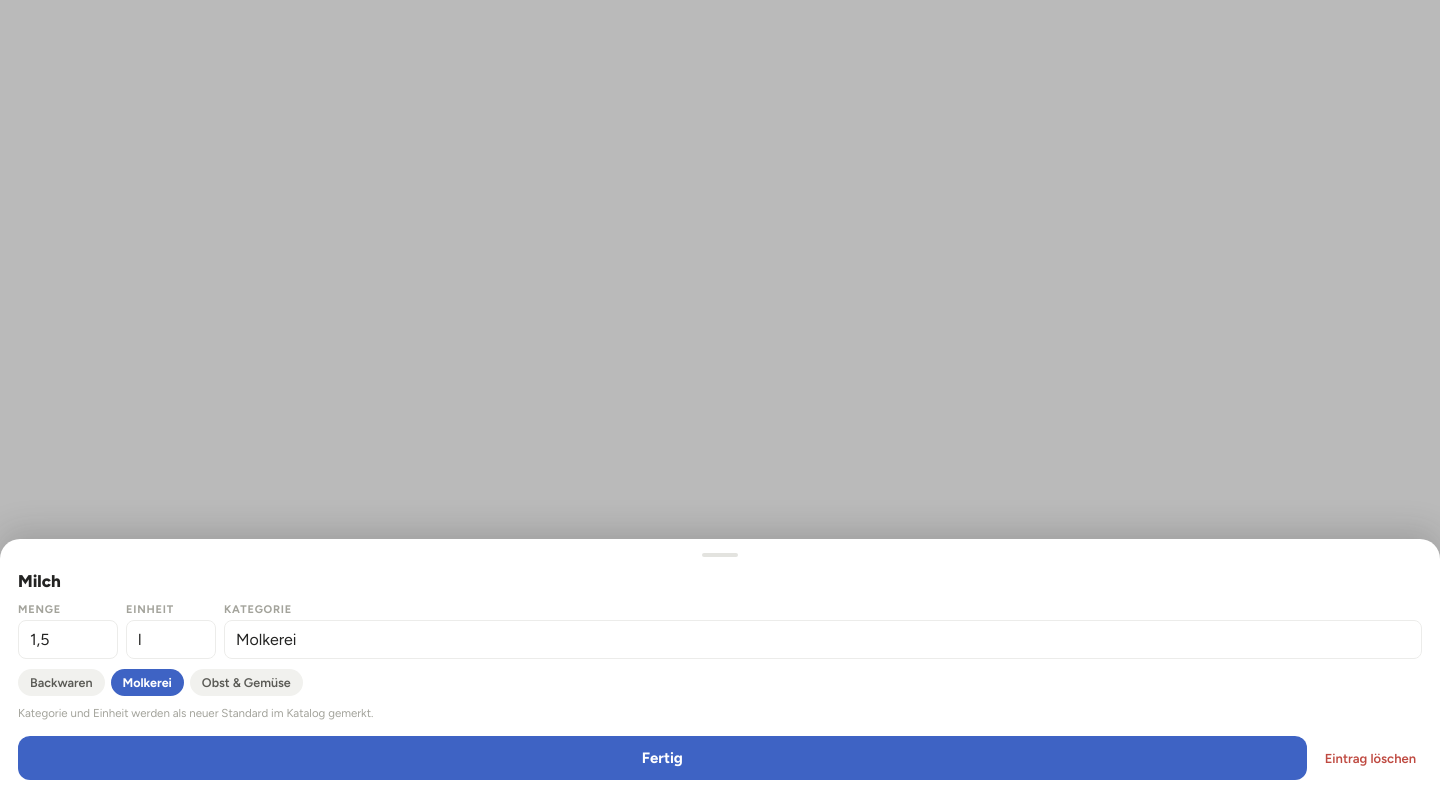
Scenario: EntrySheet › re-anchors on a typed MENGE
Type "ml" into the field labelled "Einheit" at point(171, 640), box [126, 620, 216, 659]
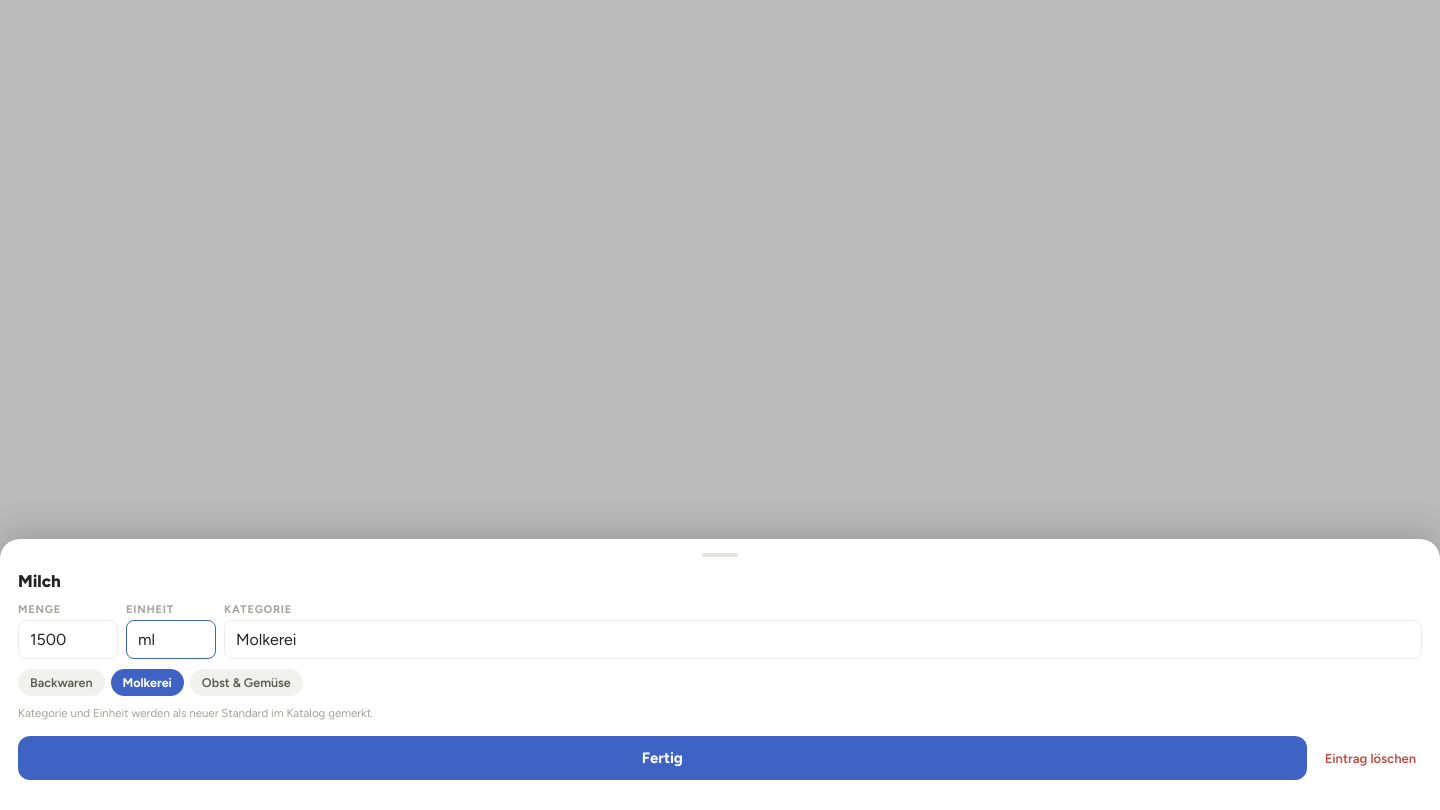
Replace the text in the field labelled "Menge" with "2000" at point(68, 640), box [18, 620, 118, 659]
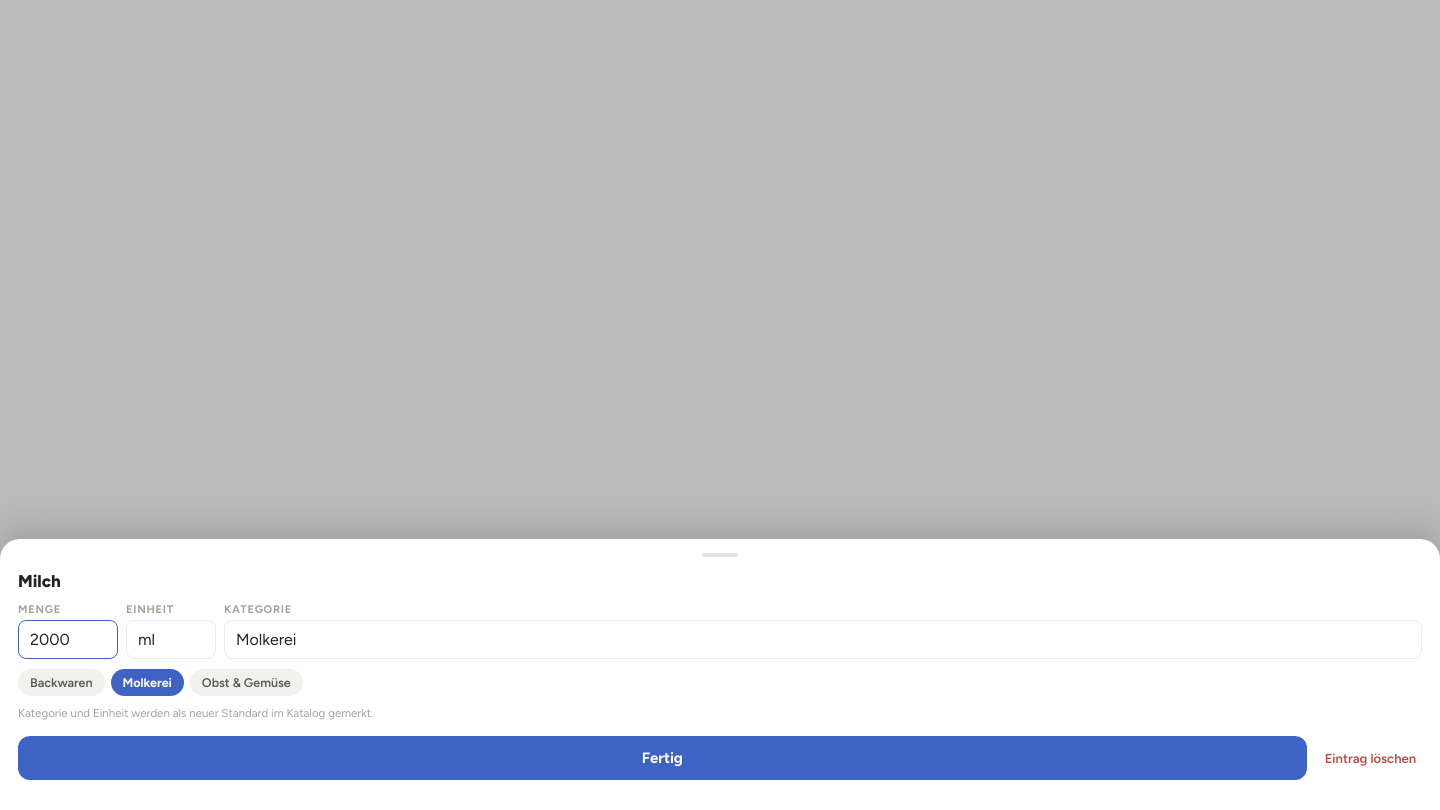
Replace the text in the field labelled "Einheit" with "l" at point(171, 640), box [126, 620, 216, 659]
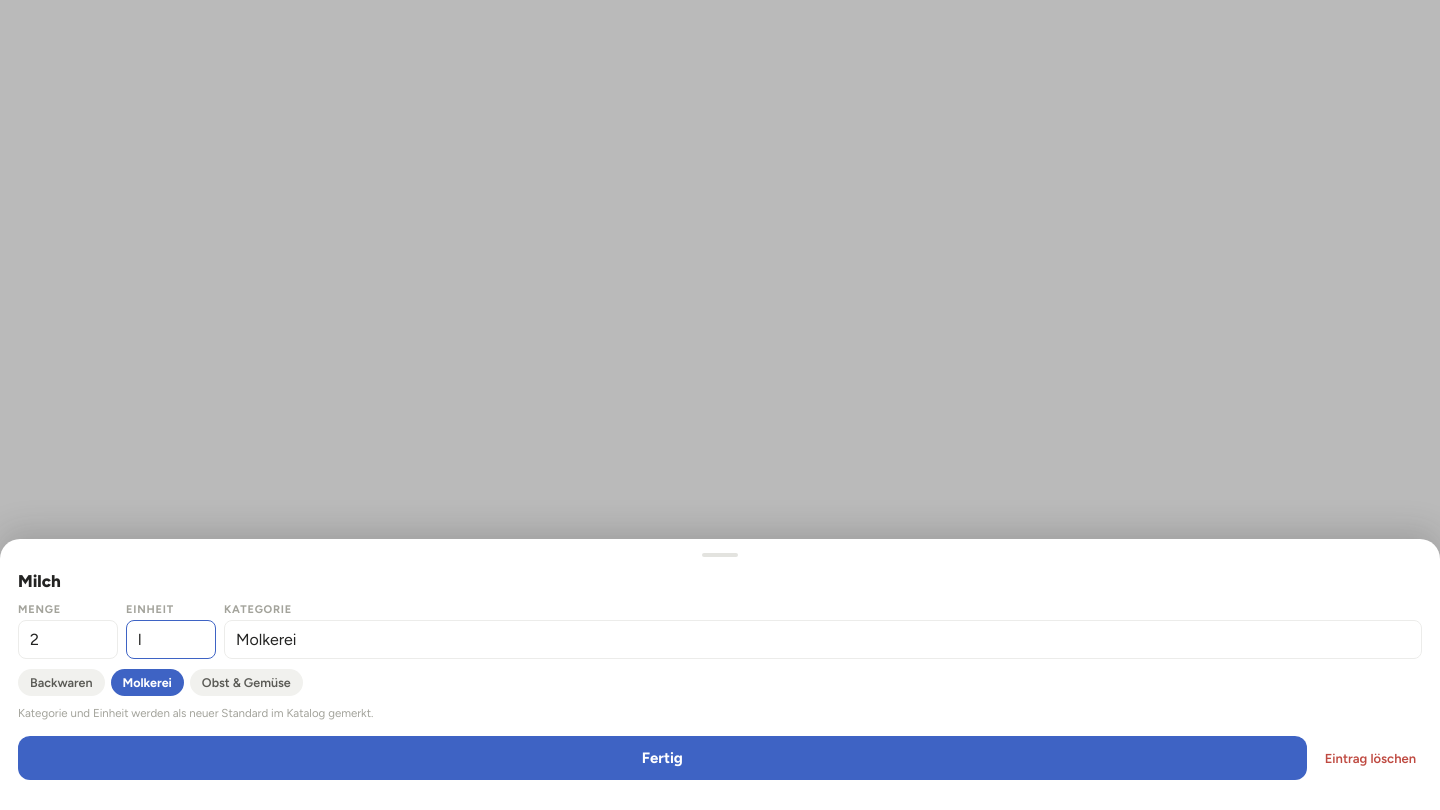
Expected: the field labelled "Menge" holds "2", [18, 620, 118, 659]
